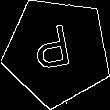P_S: (34, 23, 80, 80)
